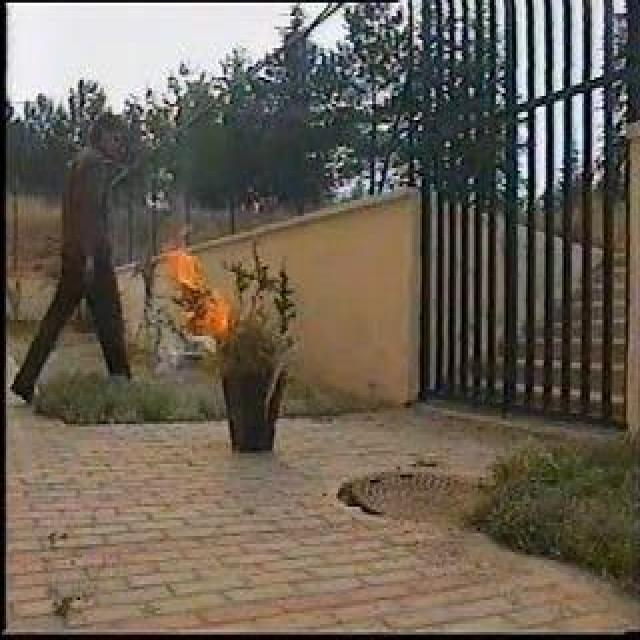fire: (171, 246, 241, 326)
